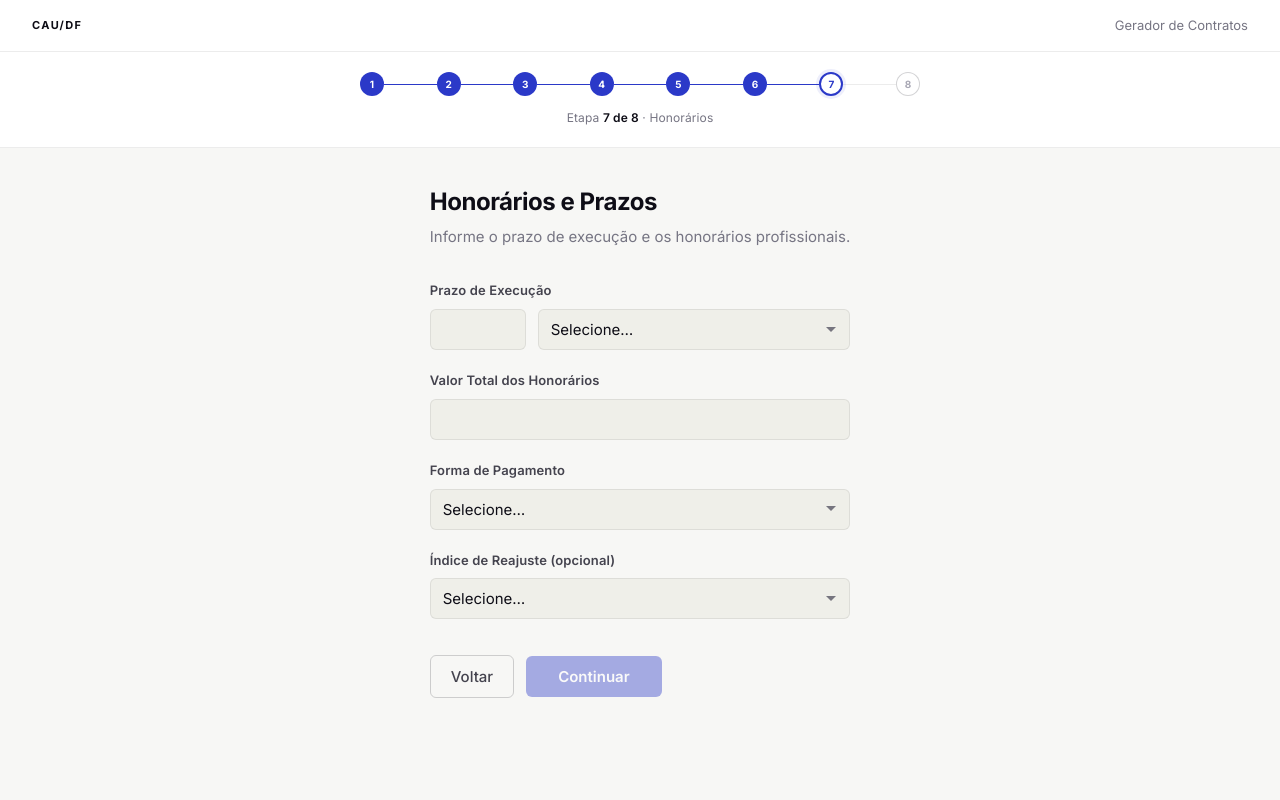
FeesFormPage › fully valid form a_vista enables Continuar
This screenshot has width=1280, height=800.
Type "12" into the field labelled "Prazo de Execução" at (478, 330), box 430,309 -> 526,350
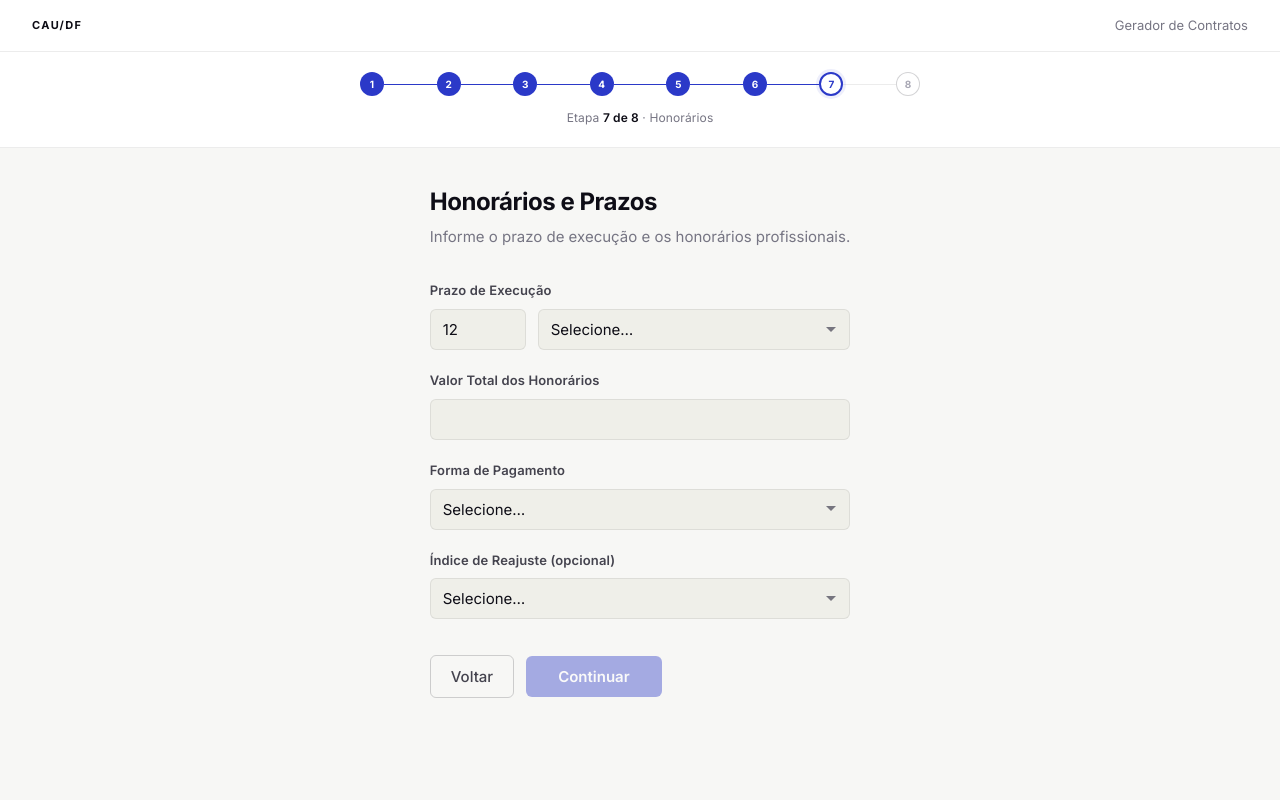
Select "meses" in the 1st dropdown at (694, 330), box 538,309 -> 850,350
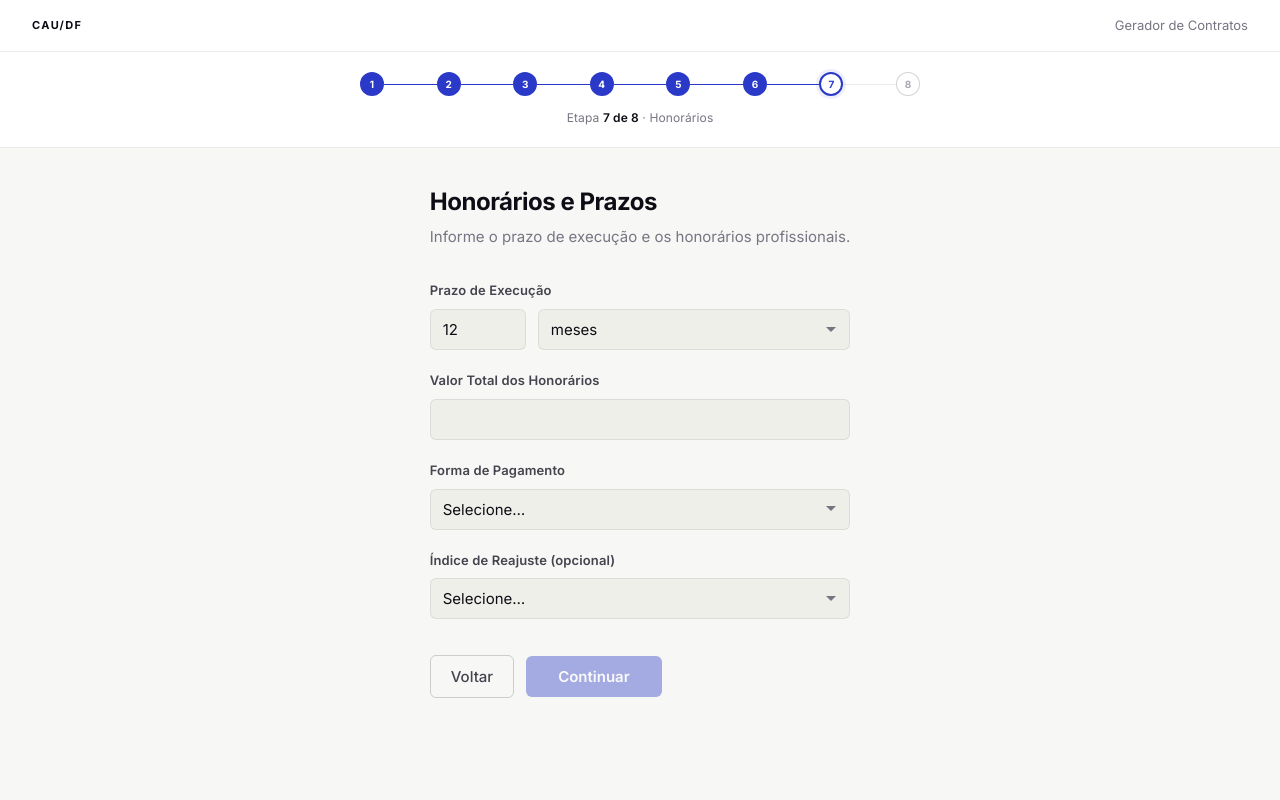
Type "R$ 15.000,00" into the field labelled "Valor Total dos Honorários" at (640, 419), box 430,399 -> 850,440
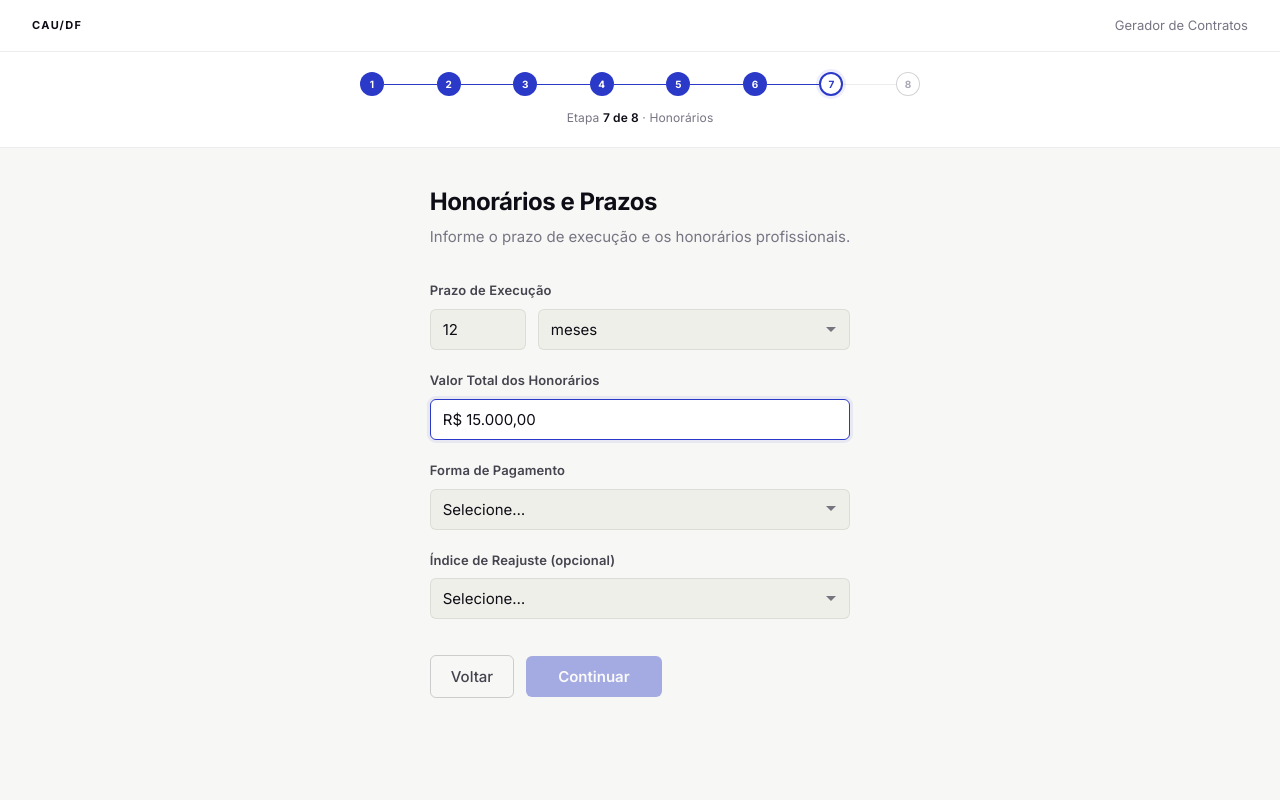
Select "À vista" in the dropdown labelled "Forma de Pagamento" at (640, 509), box 430,489 -> 850,530
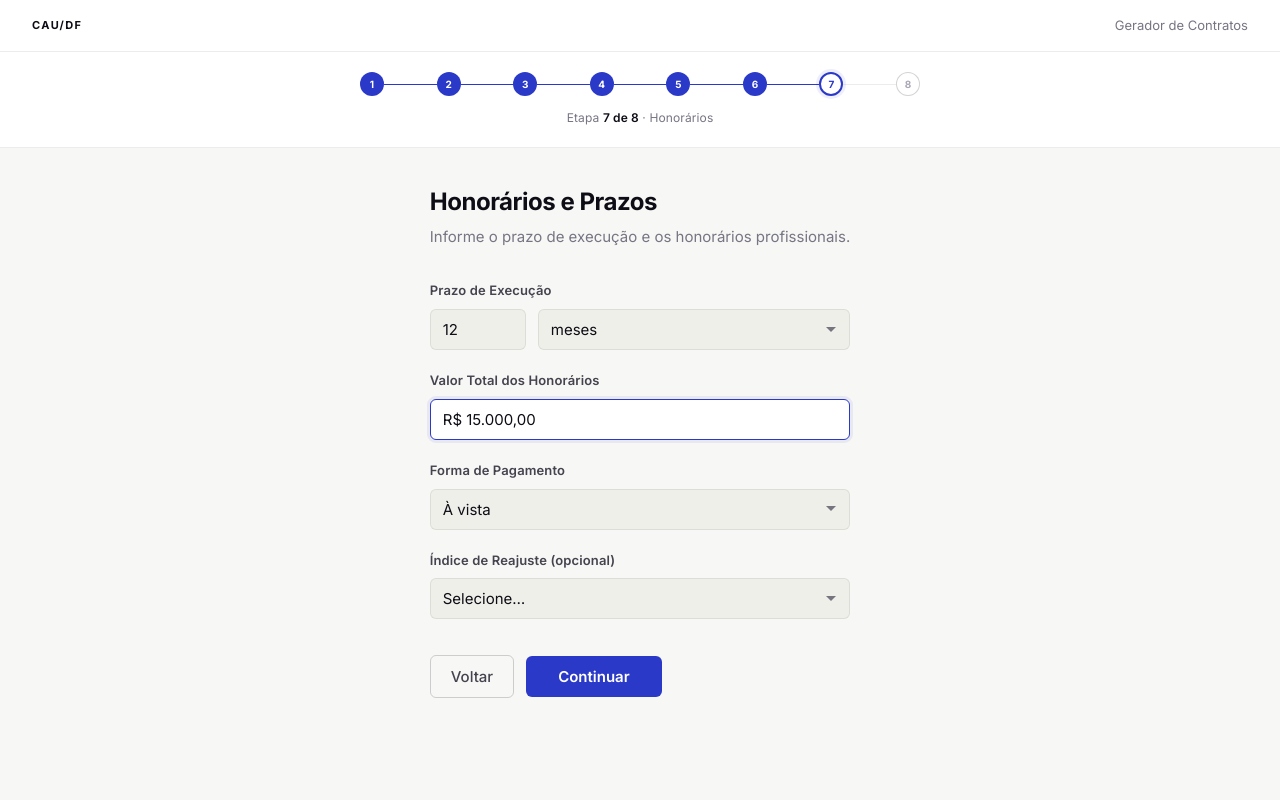
Check: the button "Continuar" is enabled, box 526,656 -> 662,697
